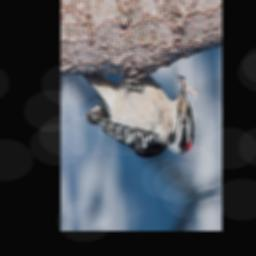Woodpecker: (82, 46, 196, 180)
